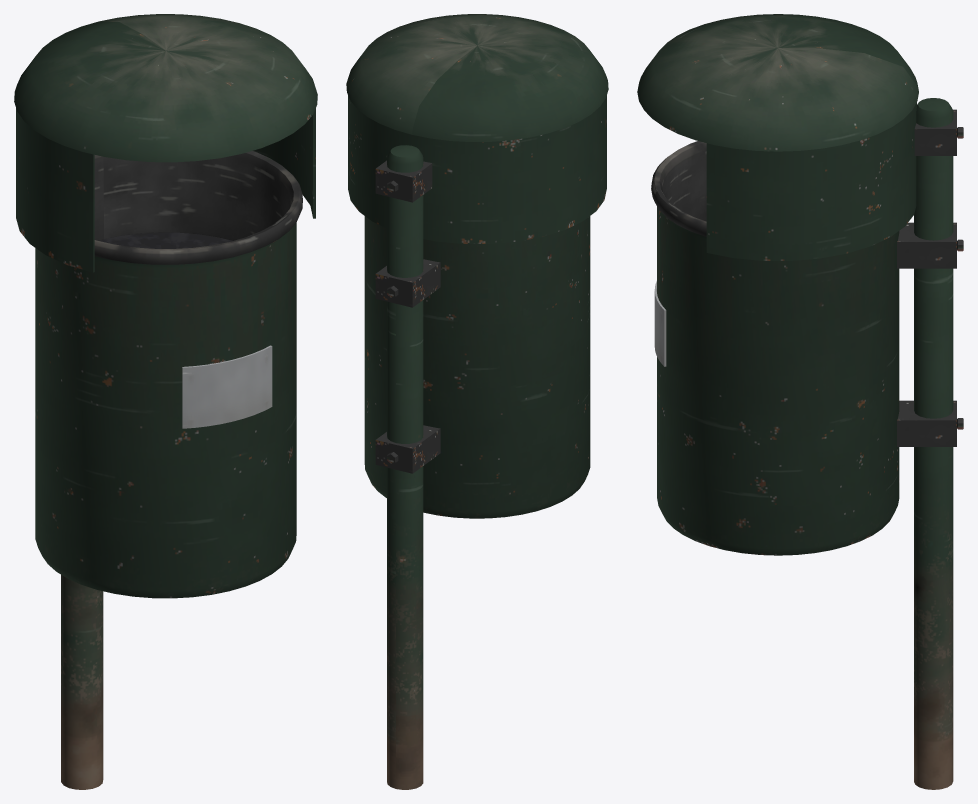
Rendered from waste-bin.fbx.
3 renders of one model, left to right at view 1: azimuth 30°, elevation 25°; view 2: azimuth 150°, elevation 25°; view 3: azimuth 270°, elevation 25°, orthographic. The views are drawn at different scales.
Visible parts, largest first — view 1: waste-bin; view 2: waste-bin; view 3: waste-bin.
Part boxes in pixels (<box>): waste-bin: <box>14,14,317,789</box>; waste-bin: <box>346,14,608,789</box>; waste-bin: <box>637,14,963,789</box>.
Size of the model in its own units: 43 by 123 by 49.8.
Materials: 1 (1 with a texture image).
